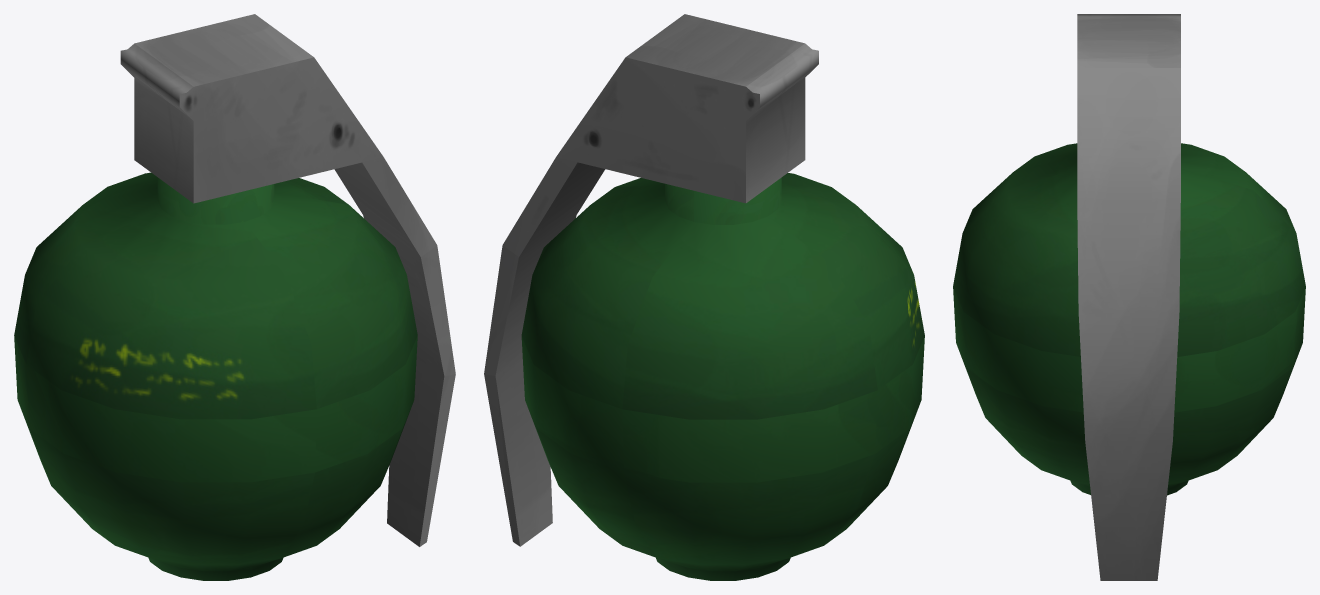
Rendered from grenade.FBX.
The picture shows the model from 3 angles, left to right: view 1: azimuth 30°, elevation 25°; view 2: azimuth 150°, elevation 25°; view 3: azimuth 270°, elevation 25°; orthographic projection. The views are drawn at different scales.
Parts seen in each view (by area): view 1: Sphere001; view 2: Sphere001; view 3: Sphere001.
Part boxes in pixels (x1,y1,x2,y2): Sphere001: (14, 14, 455, 580); Sphere001: (484, 14, 924, 580); Sphere001: (953, 14, 1305, 580).
Bounding box in the file's own units: 12.44 × 16.25 × 11.25.
